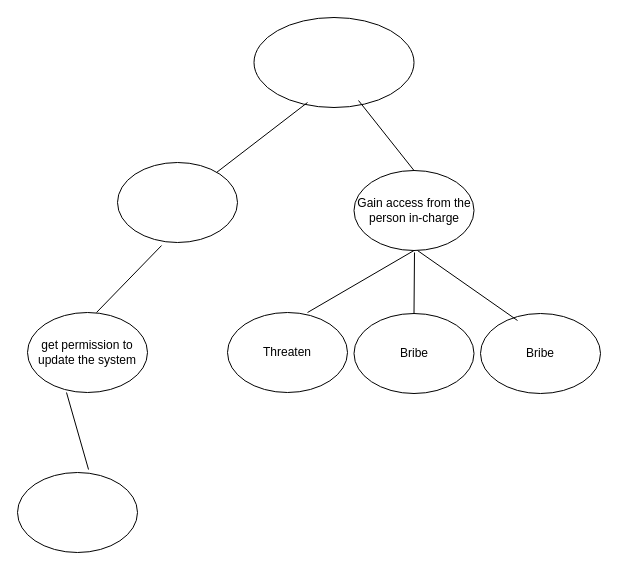
This 618x570 diagram has some shape labels left out. The shapes that lost their labels are listed below. From the top down, each one's centre as x and y in pixels, then its label:
At (333,62): "Updating the SafeCare Appointment System.".
At (177,202): "Gain access to the file".
At (77,512): "Find the location of the file".
